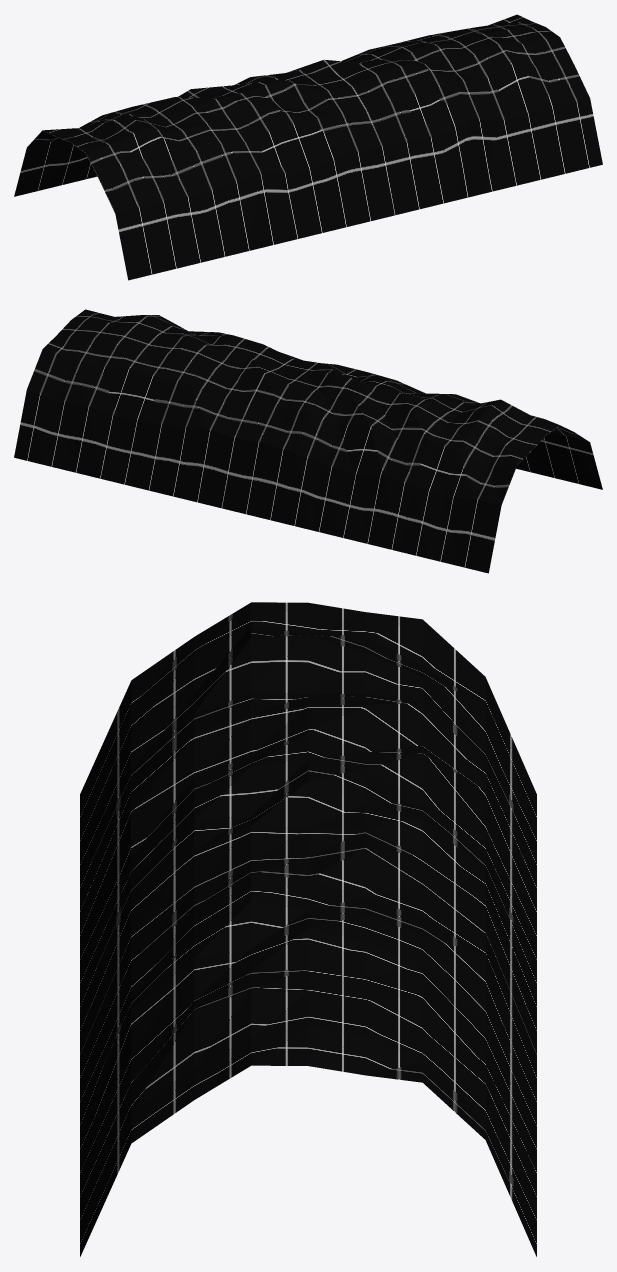
The model's file is Mesh_Bank.fbx.
3 renders of one model, top to bottom at view 1: azimuth 30°, elevation 25°; view 2: azimuth 150°, elevation 25°; view 3: azimuth 270°, elevation 25°, orthographic. The views are drawn at different scales.
Visible parts, largest first — view 1: Mesh_Bank_LOD0; view 2: Mesh_Bank_LOD0; view 3: Mesh_Bank_LOD0.
Part boxes in pixels (<box>): Mesh_Bank_LOD0: <box>14,14,602,280</box>; Mesh_Bank_LOD0: <box>14,309,602,573</box>; Mesh_Bank_LOD0: <box>80,602,536,1256</box>.
Size of what is drawn, in the model's own units: 28.8 by 6.28 by 12.
